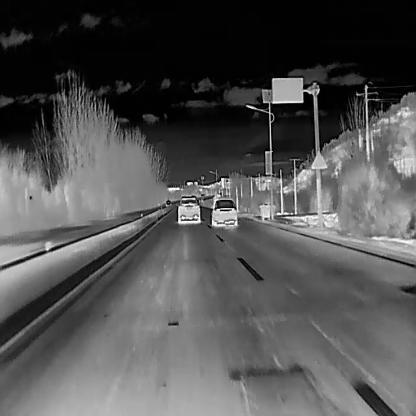car: (211, 198, 237, 227), (177, 195, 200, 223), (164, 199, 171, 207), (200, 193, 204, 198)
